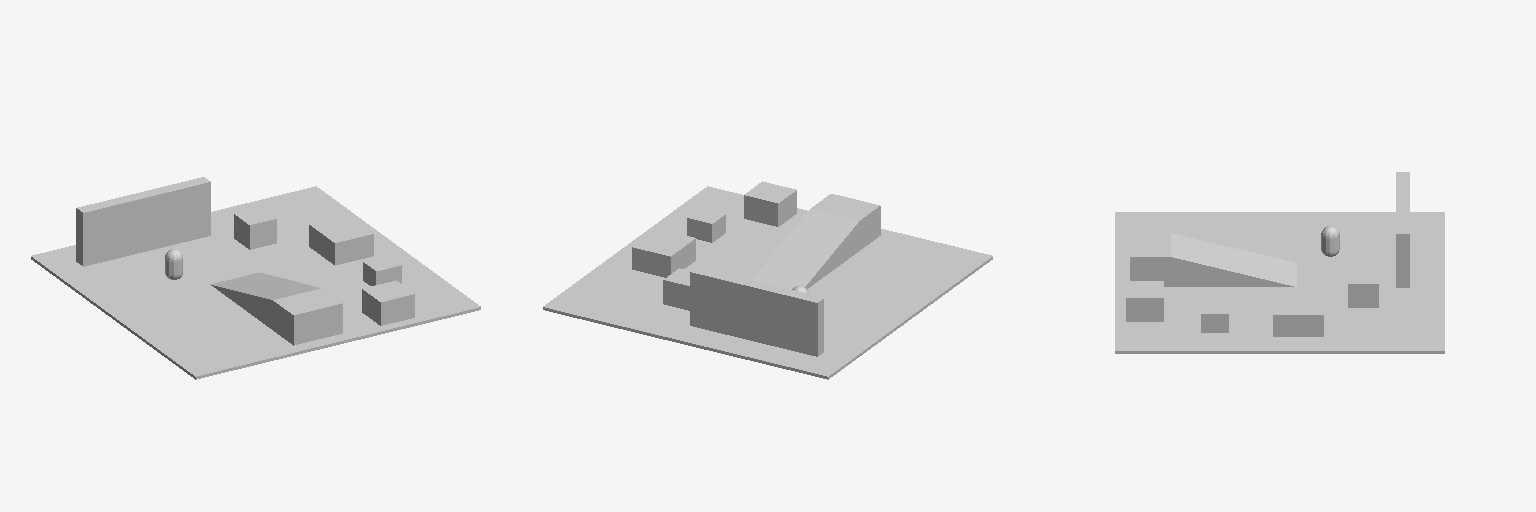
The picture shows the model from 3 angles: view 1: azimuth 30°, elevation 25°; view 2: azimuth 150°, elevation 25°; view 3: azimuth 270°, elevation 25°; orthographic projection.
Visible parts, largest first — view 1: Box001, Box005, Box008, Box006, Box007, Box004, Box003; view 2: Box001, Box005, Box008, Box006, Box007, Box003, Box004; view 3: Box001, Box008, Box006, Box005, Box007, Box004, Box003.
Boxes of the visible parts, x1,y1,x2,y2 form: Box001: [31, 186, 480, 379]; Box005: [76, 177, 210, 266]; Box008: [210, 272, 342, 345]; Box006: [309, 215, 373, 265]; Box007: [362, 280, 414, 325]; Box004: [234, 207, 276, 249]; Box003: [363, 255, 401, 285]; Box001: [543, 186, 992, 379]; Box005: [690, 267, 823, 356]; Box008: [752, 194, 880, 289]; Box006: [632, 229, 695, 277]; Box007: [744, 181, 796, 226]; Box003: [687, 208, 725, 242]; Box004: [663, 268, 690, 310]; Box001: [1115, 212, 1444, 353]; Box008: [1130, 233, 1296, 286]; Box006: [1273, 296, 1323, 336]; Box005: [1396, 172, 1409, 287]; Box007: [1126, 281, 1163, 321]; Box004: [1348, 270, 1378, 307]; Box003: [1201, 302, 1228, 332].
Bounding box in the file's own units: 100 × 19.02 × 100.
1 materials, 1 textured.